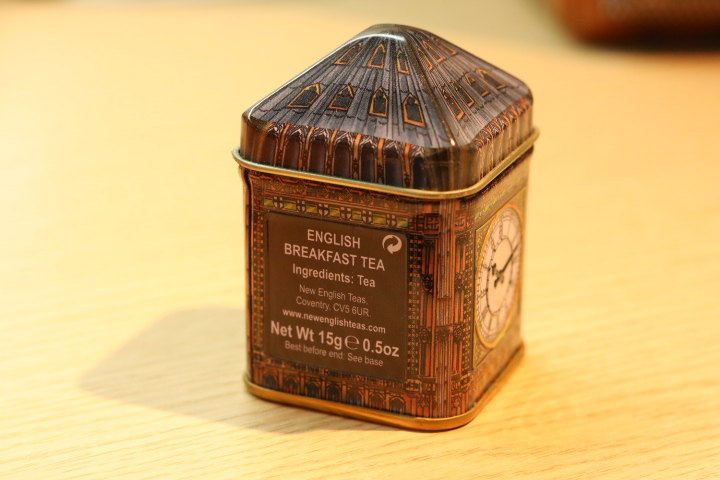Big Ben: (220, 14, 548, 445)
